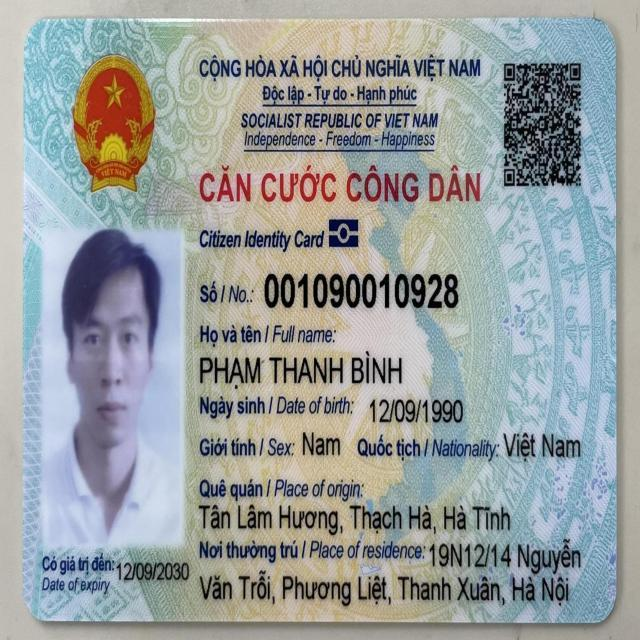current_place: (195, 565, 574, 610), (429, 531, 587, 580)
dob: (369, 393, 467, 425)
expire_date: (114, 557, 193, 584)
gender: (301, 427, 342, 461)
id: (262, 269, 461, 308)
name: (198, 348, 404, 390)
nationality: (501, 427, 584, 466)
origin_place: (200, 502, 513, 537)
